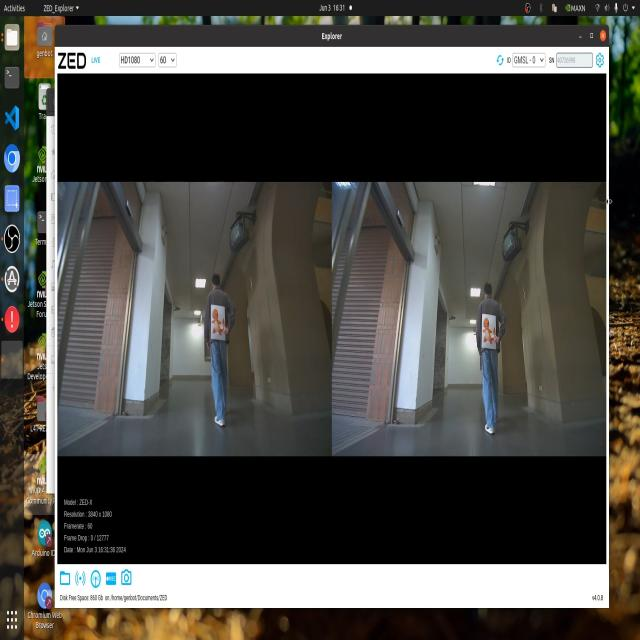red: (208, 297, 229, 348), (481, 308, 498, 352)
